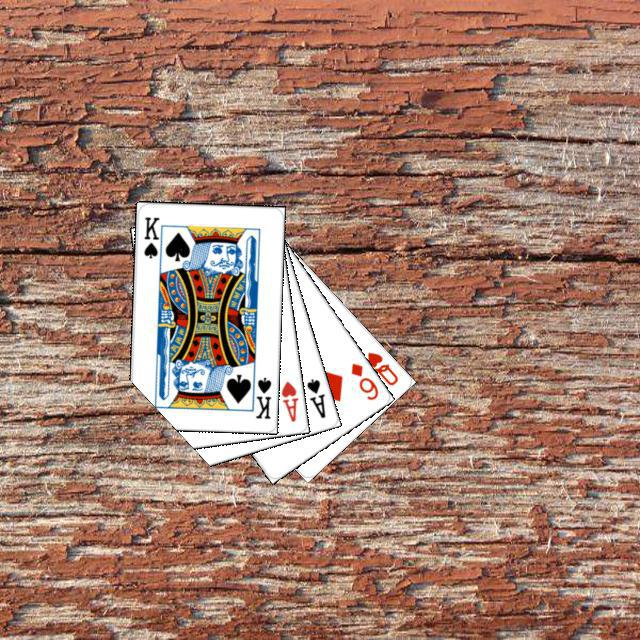6d: (346, 358, 380, 402)
Ah: (276, 376, 300, 423)
As: (302, 374, 327, 420)
Ks: (139, 212, 164, 264), (251, 373, 273, 420)
Qh: (362, 347, 400, 387)
